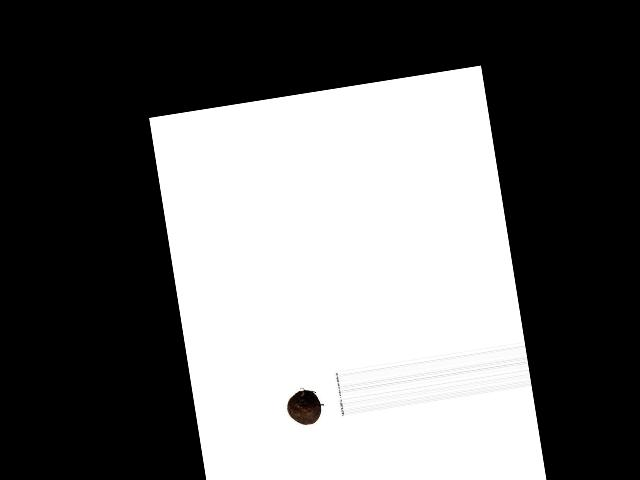beet: (285, 389, 323, 428)
